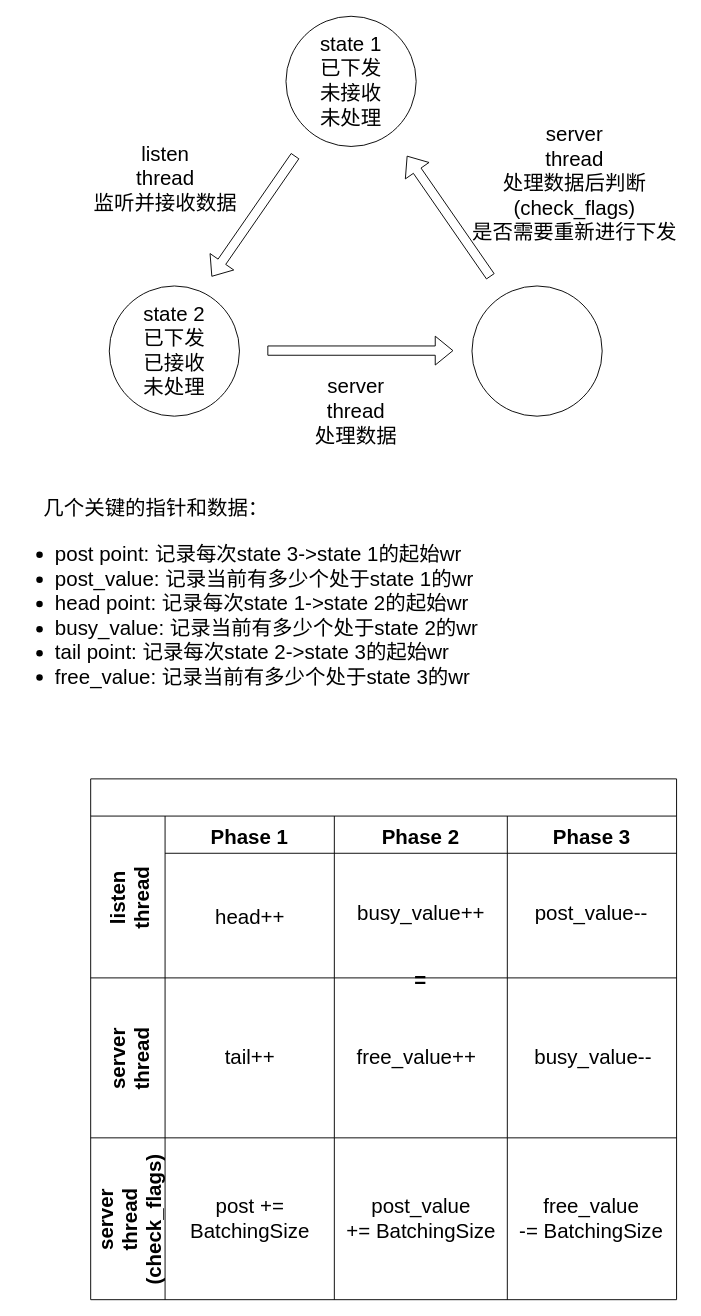
This 701x1316 diagram has some shape labels left out. Each missing label, with the box of its shape:
state 3 已下发 已接收 已处理: (471, 285, 602, 416)
thread action to point and value: (90, 778, 677, 1300)
